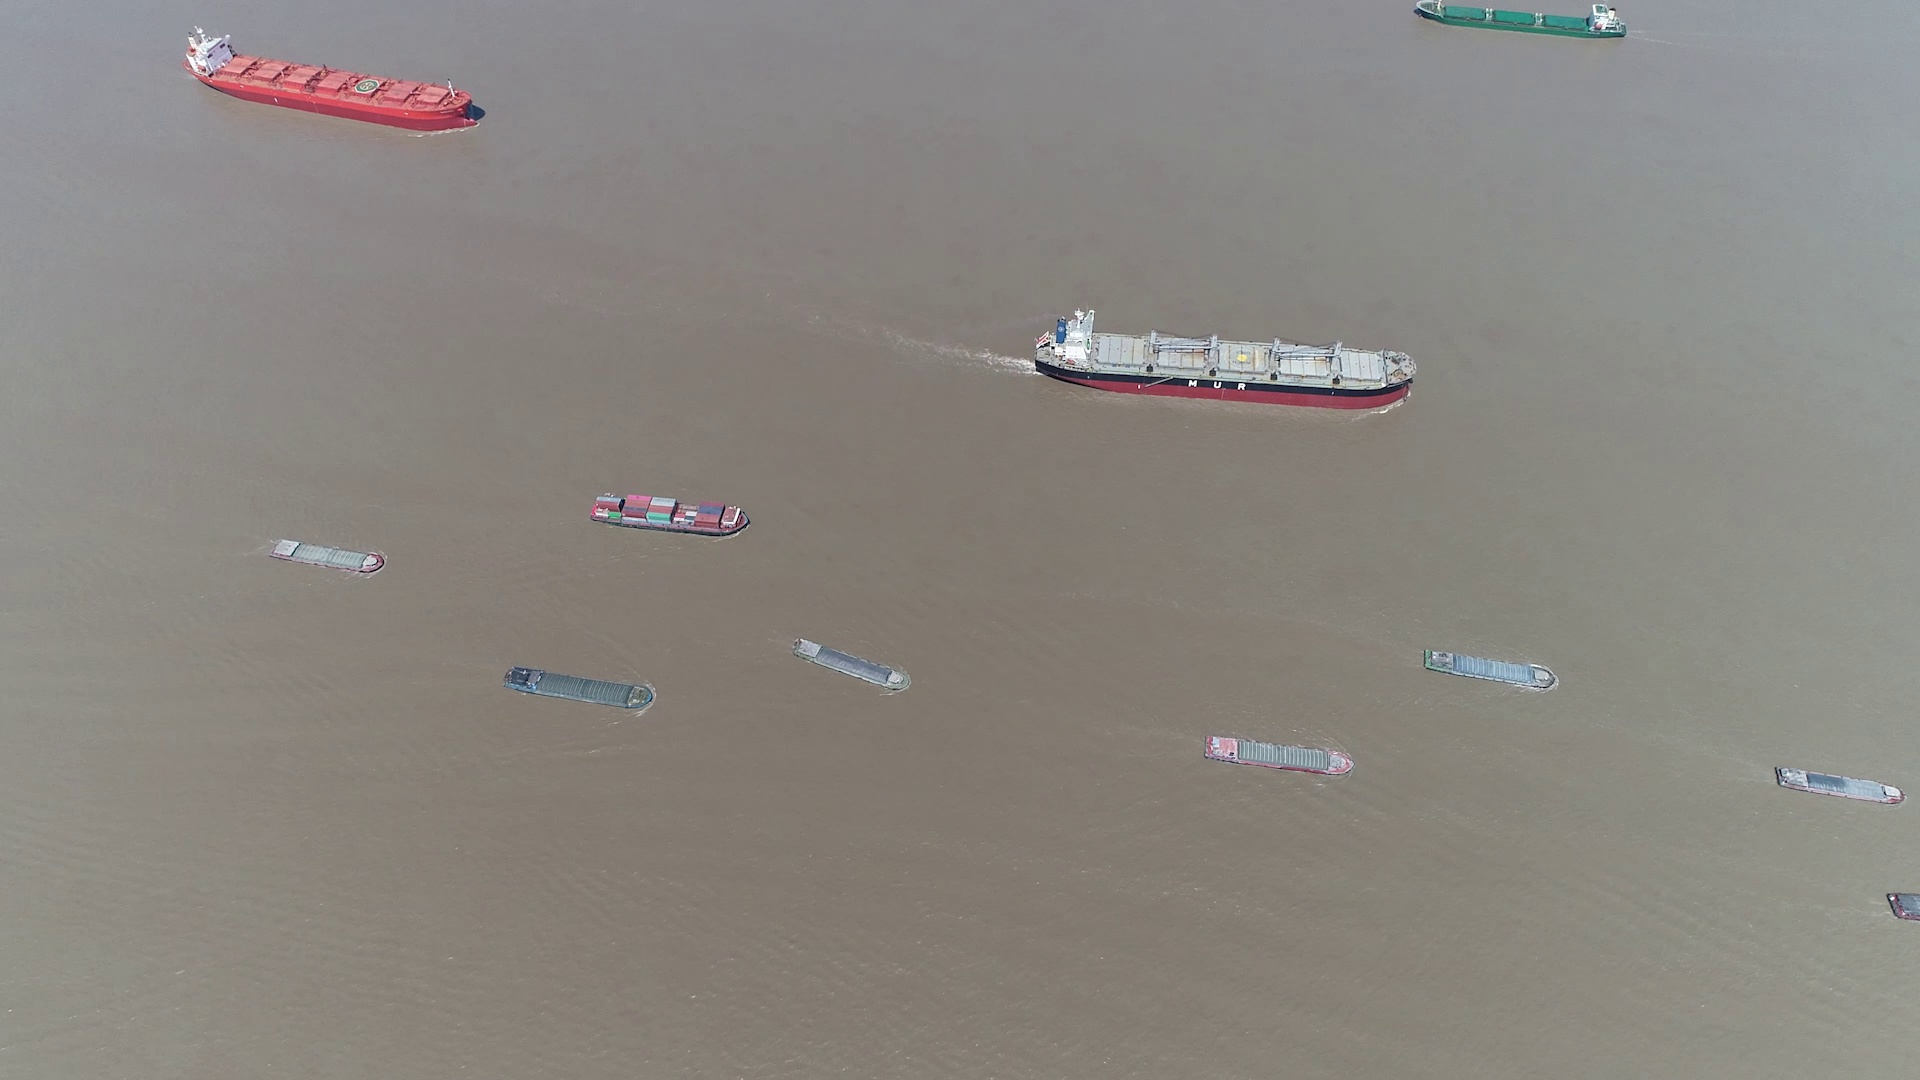ship: (1035, 309, 1415, 407), (187, 28, 480, 132), (1415, 1, 1627, 40), (589, 493, 752, 535), (793, 638, 910, 695), (506, 669, 657, 709), (1203, 735, 1352, 775), (1425, 649, 1557, 688), (1774, 766, 1902, 804), (268, 538, 386, 574), (1887, 893, 1919, 924)
